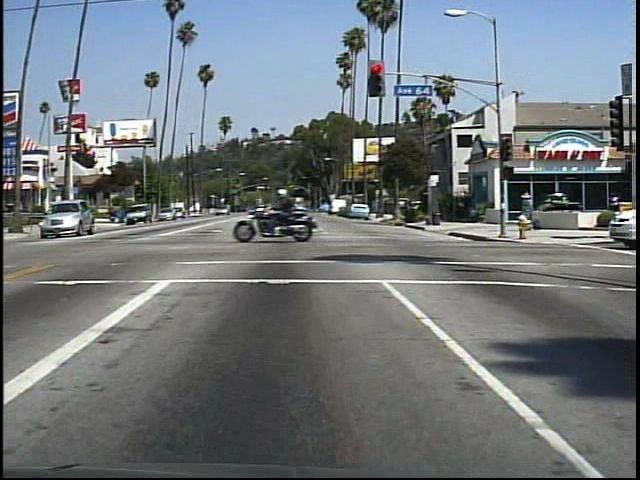person: (275, 185, 310, 239), (516, 186, 540, 219)
